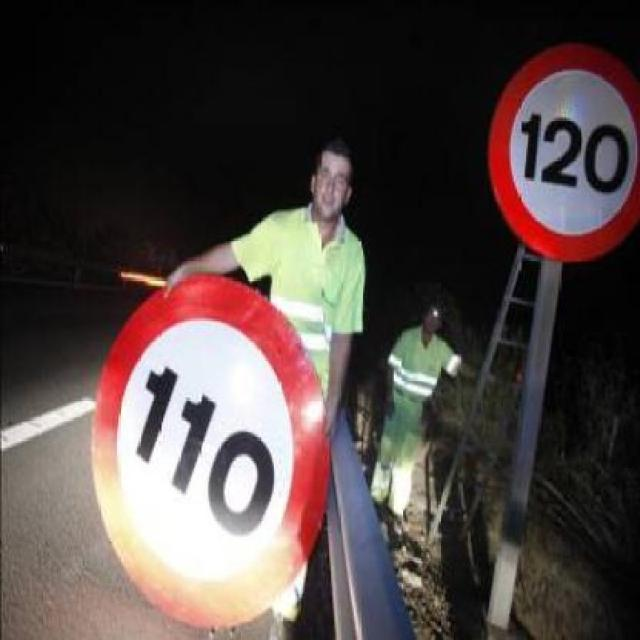forb_speed_over_120: (494, 44, 640, 261)
